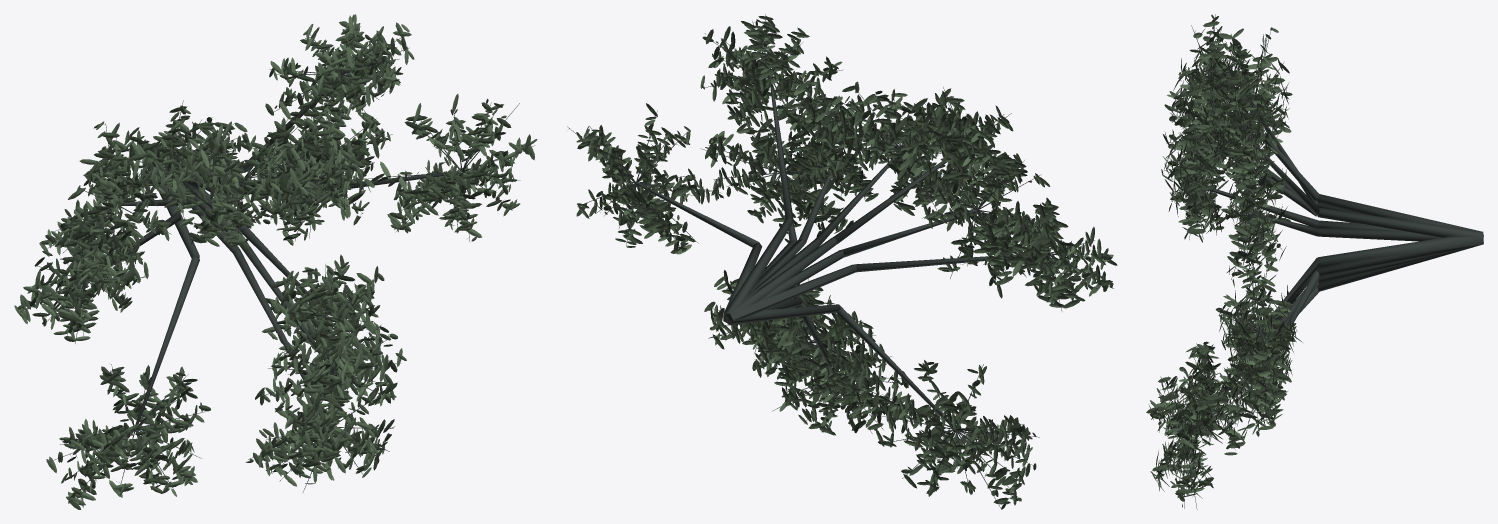
File: tree_m7.obj
The picture shows the model from 3 angles, left to right: view 1: azimuth 30°, elevation 25°; view 2: azimuth 150°, elevation 25°; view 3: azimuth 270°, elevation 25°; orthographic projection. The views are drawn at different scales.
Bounding box in the file's own units: 1.86 × 1.47 × 1.02.
Materials: 1 (1 with a texture image).
